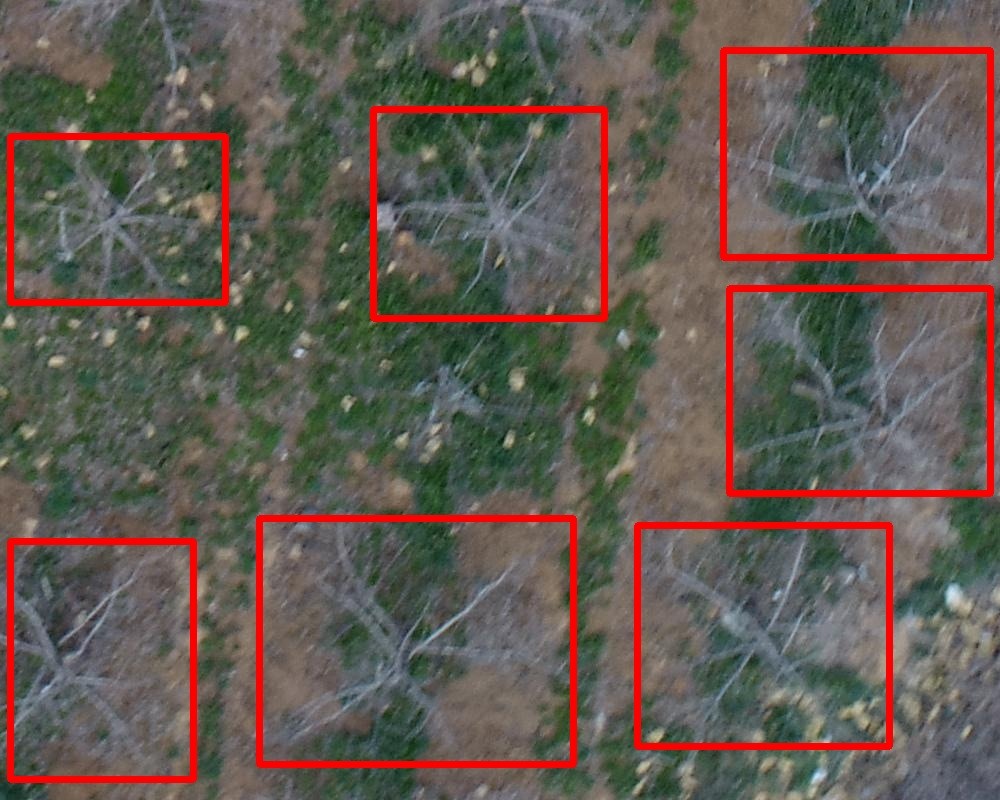apple: (259, 518, 573, 764), (637, 525, 889, 746), (723, 50, 990, 257), (729, 288, 990, 493), (373, 109, 604, 318), (10, 541, 193, 779), (10, 136, 225, 302)
